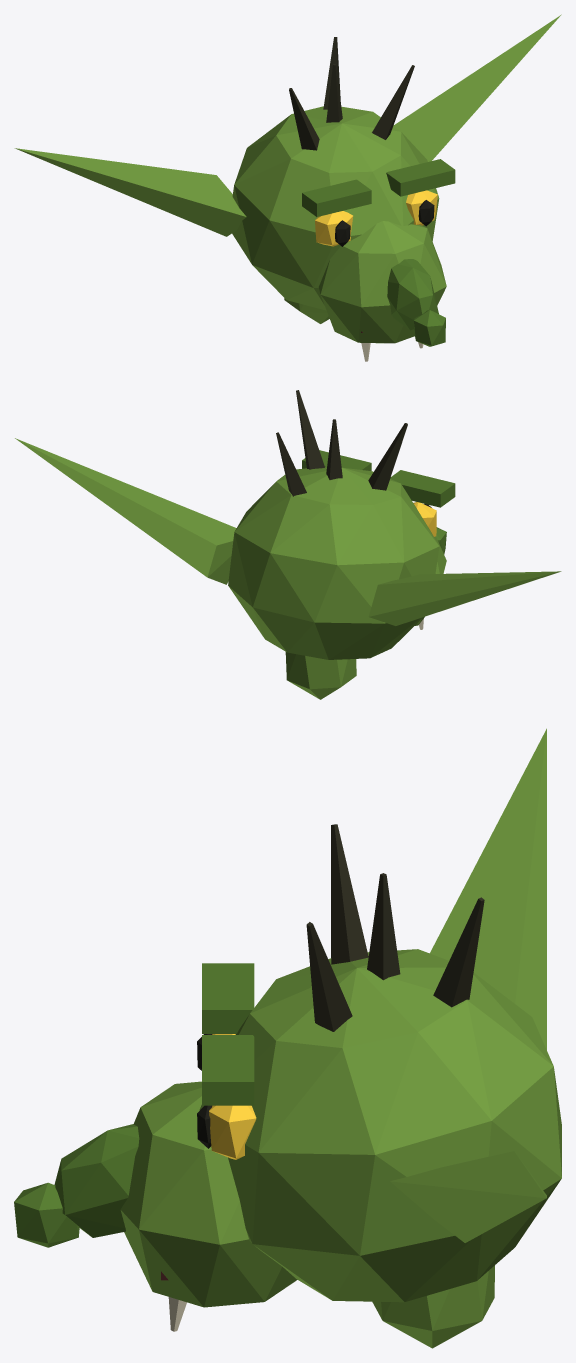
File: goblin_0_head.glb
3 renders of one model, top to bottom at view 1: azimuth 30°, elevation 25°; view 2: azimuth 150°, elevation 25°; view 3: azimuth 270°, elevation 25°, orthographic. The views are drawn at different scales.
Visible parts, largest first — view 1: goblin_0_head; view 2: goblin_0_head; view 3: goblin_0_head.
Part boxes in pixels (bbox=[...]): goblin_0_head: bbox=[14, 14, 561, 361]; goblin_0_head: bbox=[15, 390, 561, 699]; goblin_0_head: bbox=[14, 728, 561, 1348].
Bounding box in the file's own units: 0.68 × 0.3207 × 0.3352.
